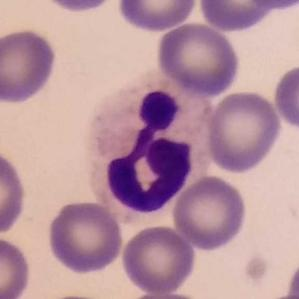Neutrophil: (80, 78, 219, 218)
Platelets: (245, 252, 273, 284)
RBC: (203, 89, 284, 174), (155, 20, 242, 98), (170, 173, 249, 252), (44, 199, 125, 275), (120, 222, 197, 295), (0, 26, 60, 106), (115, 0, 200, 33), (196, 0, 279, 33), (0, 146, 29, 236), (0, 234, 32, 299), (271, 61, 299, 134), (37, 0, 122, 14), (243, 0, 298, 12), (281, 264, 299, 299)
